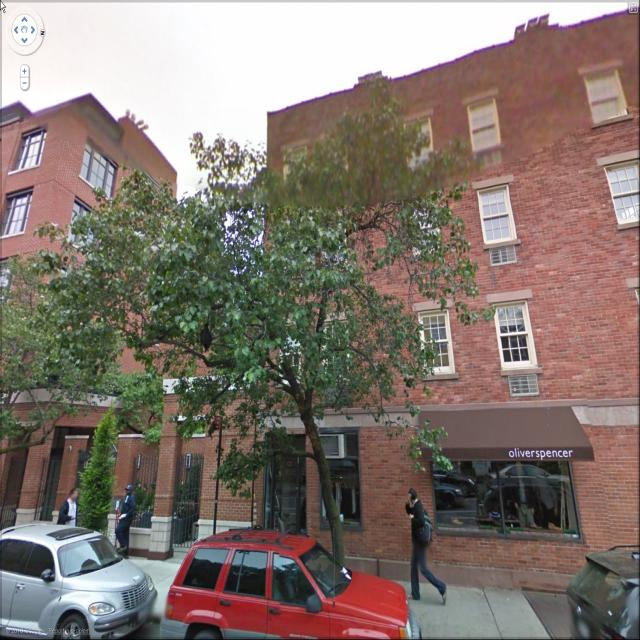b_1: (487, 12, 640, 532)
b_2: (250, 46, 490, 542), (2, 98, 161, 535), (144, 351, 272, 554)
